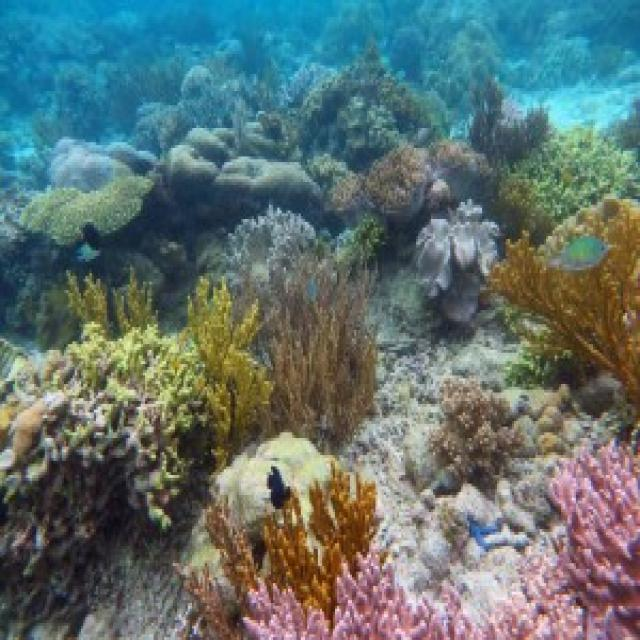Healthy: (246, 445, 639, 638), (1, 325, 219, 638), (189, 456, 379, 638), (492, 200, 639, 419), (270, 254, 374, 442), (182, 280, 270, 465), (298, 52, 430, 169), (511, 126, 639, 226), (428, 379, 519, 490), (417, 203, 498, 320), (227, 206, 319, 308), (22, 177, 152, 246), (470, 78, 549, 163), (362, 146, 430, 217), (430, 143, 492, 197), (69, 274, 108, 328), (123, 271, 157, 328)
